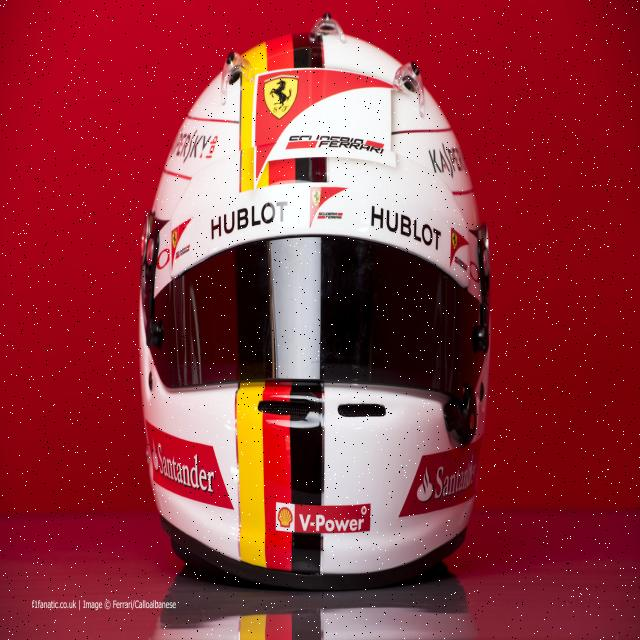Helmet: (136, 16, 492, 594)
